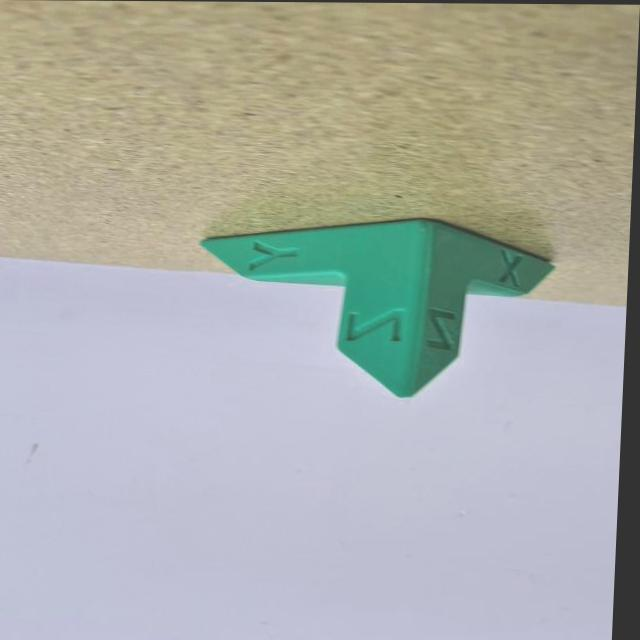eje: (189, 211, 566, 406)
